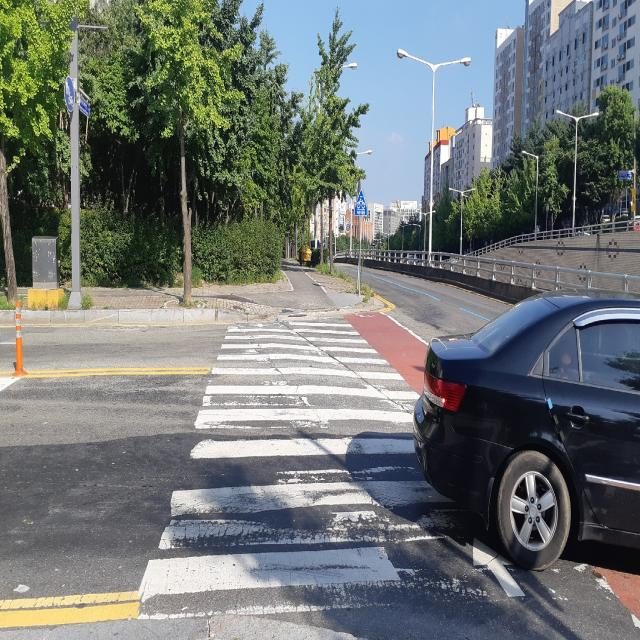횡단보도: (138, 322, 525, 620)
